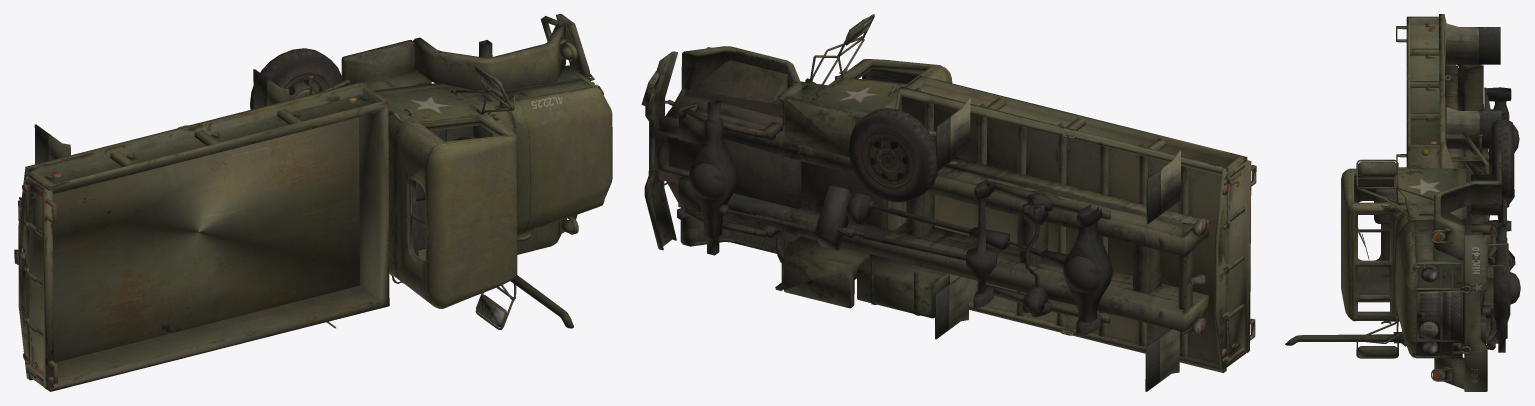
The model's file is armytruck_notires.obj.
3 renders of one model, left to right at view 1: azimuth 30°, elevation 25°; view 2: azimuth 150°, elevation 25°; view 3: azimuth 270°, elevation 25°, orthographic. The views are drawn at different scales.
Bounding box in the file's own units: 6.78 × 2.76 × 2.97.
Materials: 4 (4 with a texture image).
